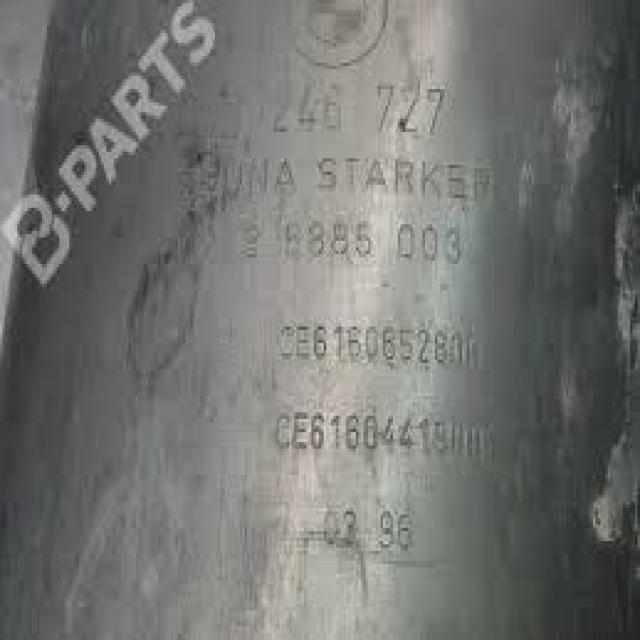ocr: (271, 408, 499, 464), (278, 321, 479, 374), (281, 218, 466, 270), (318, 153, 493, 204), (371, 79, 453, 137), (320, 504, 418, 552), (270, 79, 346, 137), (200, 156, 300, 196)
